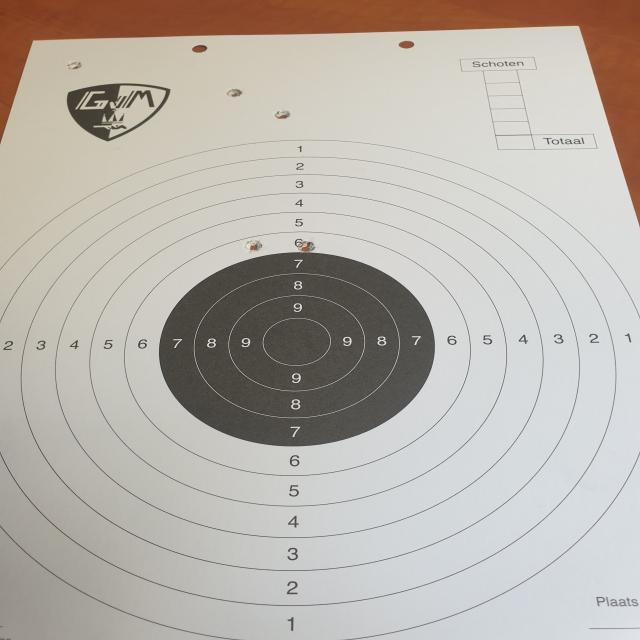7: (294, 239, 318, 254), (241, 238, 263, 254)
Black Contour: (159, 251, 436, 447)
Target: (0, 136, 640, 640)
hole: (224, 86, 242, 100), (64, 61, 84, 70), (274, 110, 290, 121)
